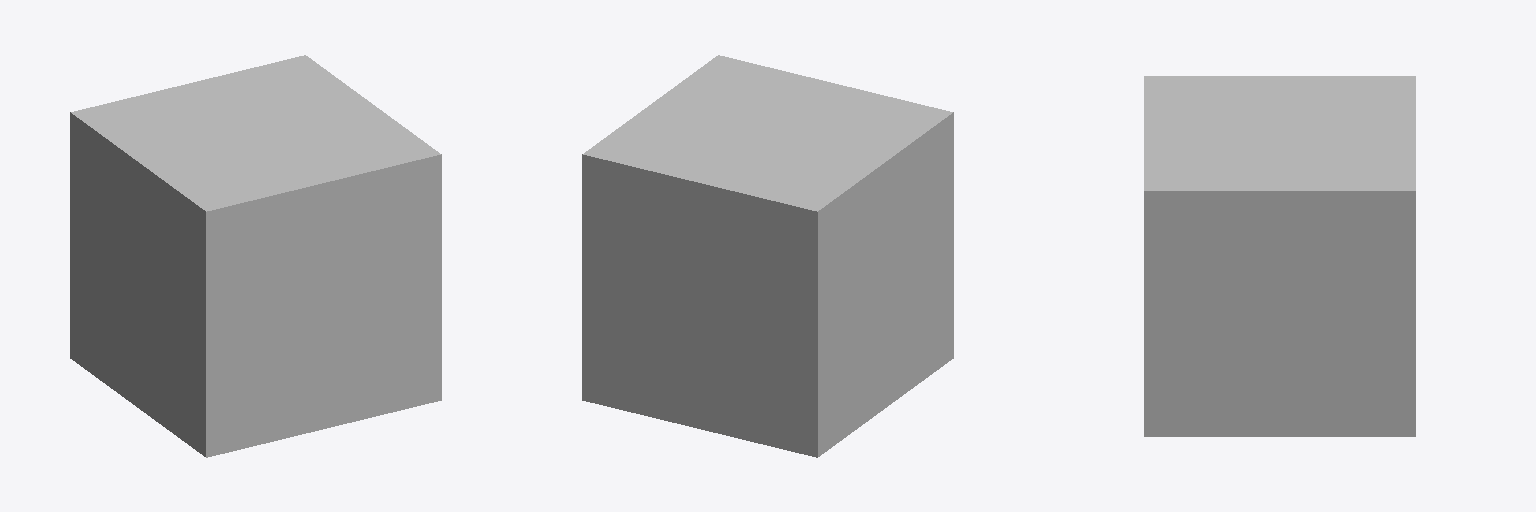
Rendered from caixa.obj.
3 renders of one model, left to right at view 1: azimuth 30°, elevation 25°; view 2: azimuth 150°, elevation 25°; view 3: azimuth 270°, elevation 25°, orthographic.
Visible parts, largest first — view 1: Cube, fd_Objetos; view 2: Cube, fd_Objetos; view 3: Cube, fd_Objetos.
Boxes of the visible parts, <box> form: Cube: <box>70,55,441,457</box>; fd_Objetos: <box>183,86,324,181</box>; Cube: <box>582,55,953,457</box>; fd_Objetos: <box>692,86,848,178</box>; Cube: <box>1144,76,1415,436</box>; fd_Objetos: <box>1155,115,1402,144</box>.
Bounding box in the file's own units: 2 × 2.01 × 2.